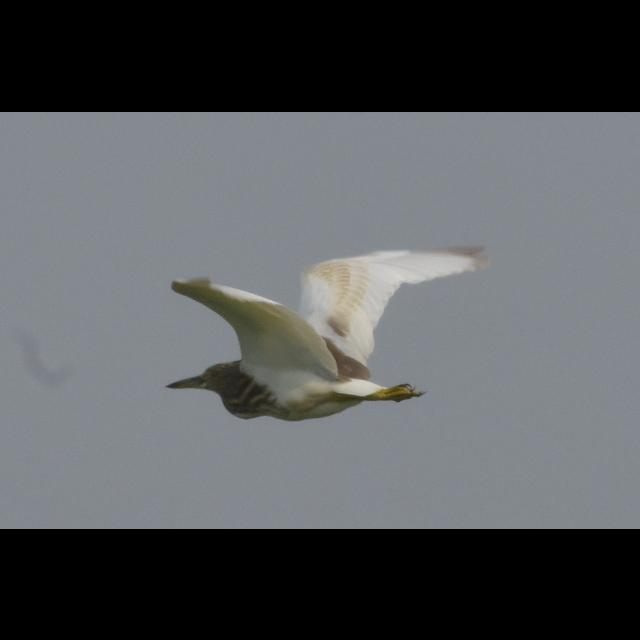heron: (160, 233, 494, 437)
